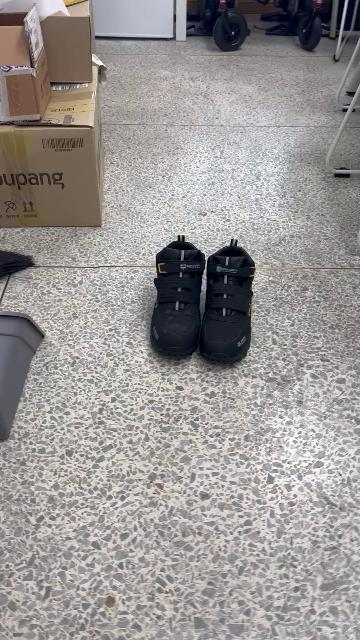shoe_worn: (207, 235, 257, 366), (153, 231, 201, 361)
